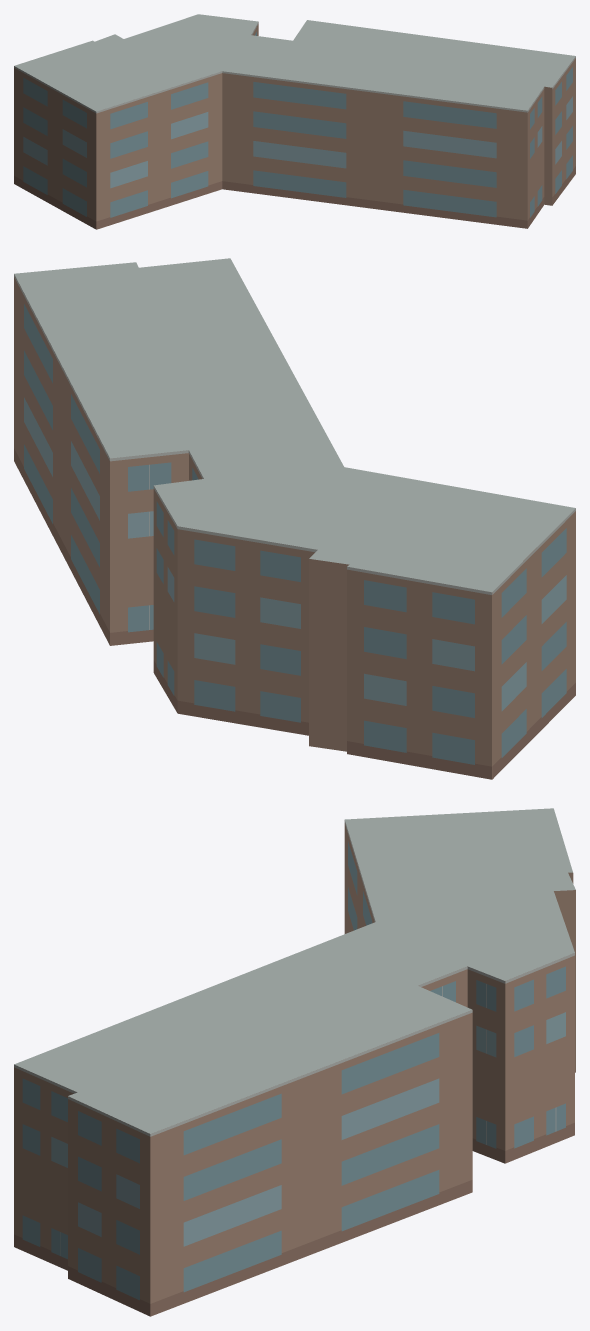
Rendered from survey-upis-33009306.glb.
3 views of the same model, one above another, from view 1: azimuth 30°, elevation 25°; view 2: azimuth 150°, elevation 25°; view 3: azimuth 270°, elevation 25° (orthographic). The views are drawn at different scales.
Visible parts, largest first — view 1: survey-upis-33009306.tmp; view 2: survey-upis-33009306.tmp; view 3: survey-upis-33009306.tmp.
Part boxes in pixels (x1,y1,x2,y2): survey-upis-33009306.tmp: (14, 14, 575, 229); survey-upis-33009306.tmp: (14, 258, 575, 779); survey-upis-33009306.tmp: (14, 808, 575, 1316).
Size of the model in its own units: 60.64 by 15.85 by 44.21.
